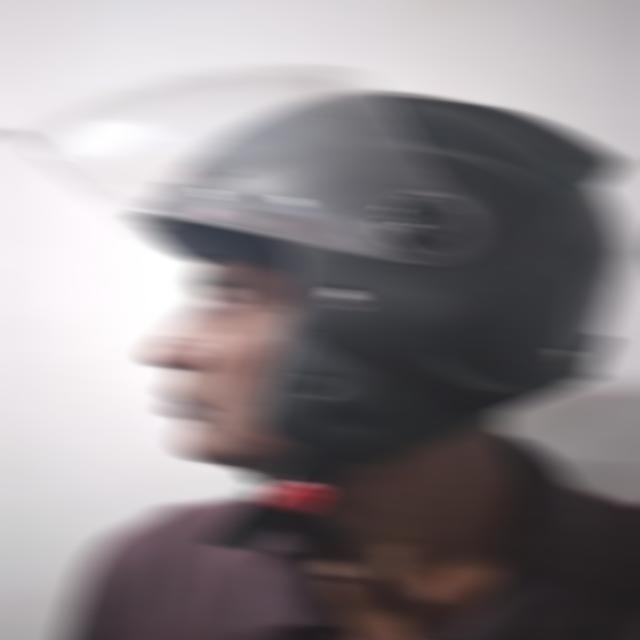With Helmet: (0, 60, 633, 515)
